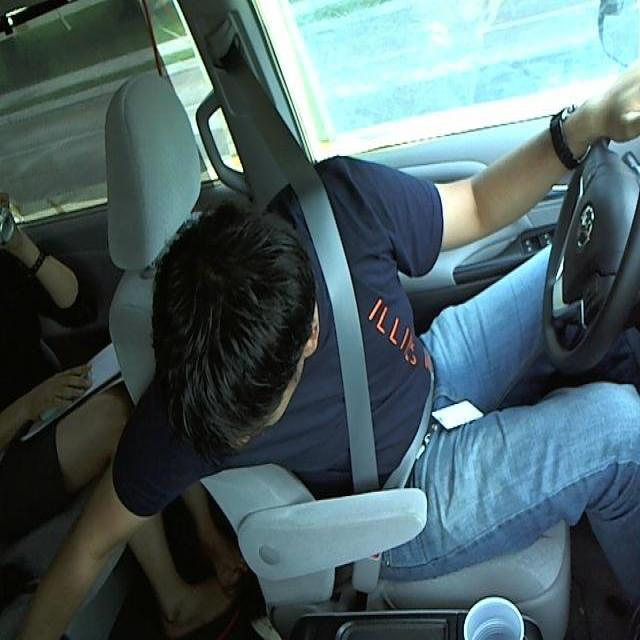seatbelt: (296, 209, 435, 567)
